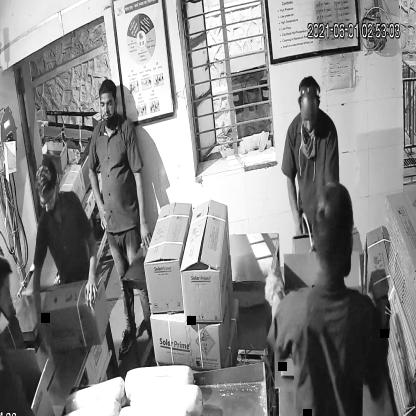goggles: (33, 187, 60, 212)
